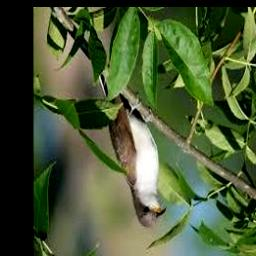Cuckoo: (95, 64, 167, 228)
